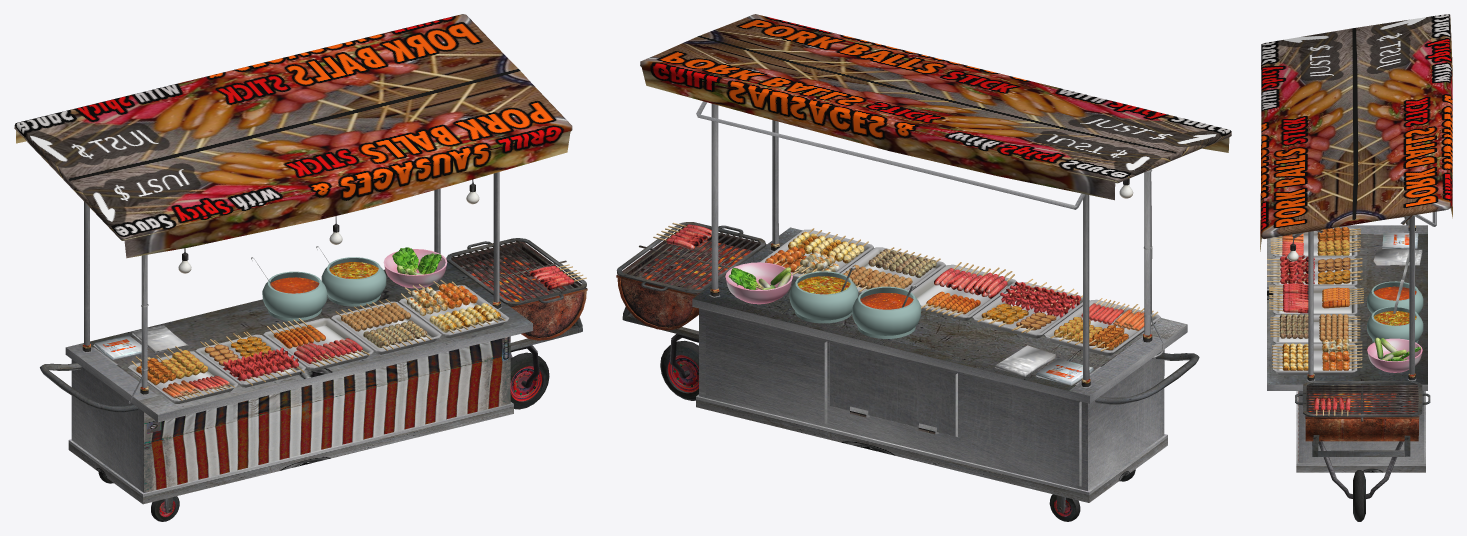
Rendered from Avika_Streetfood_Cart.fbx.
3 views of the same model, side by side, from view 1: azimuth 30°, elevation 25°; view 2: azimuth 150°, elevation 25°; view 3: azimuth 270°, elevation 25° (orthographic). The views are drawn at different scales.
Visible parts, largest first — view 1: cart, grill, cart_decor, blow_glass, tray01, tray04, tray02, tray03, tray05, light; view 2: cart, grill, cart_decor, blow_glass, tray04, tray03, tray05, tray01, tray02; view 3: cart, grill, cart_decor, tray01, tray03, tray04, tray02, tray05, blow_glass.
Part boxes in pixels (left/top/right/bottom): cart: left=14, top=14, right=572, bottom=504; grill: left=40, top=238, right=587, bottom=521; cart_decor: left=93, top=246, right=447, bottom=360; blow_glass: left=262, top=257, right=386, bottom=321; tray01: left=399, top=280, right=509, bottom=337; tray04: left=195, top=331, right=305, bottom=387; tray02: left=331, top=299, right=441, bottom=354; tray03: left=263, top=318, right=373, bottom=370; tray05: left=128, top=346, right=238, bottom=403; light: left=128, top=179, right=479, bottom=403; cart: left=640, top=14, right=1231, bottom=502; grill: left=616, top=222, right=1199, bottom=521; cart_decor: left=725, top=262, right=1094, bottom=385; blow_glass: left=789, top=271, right=921, bottom=338; tray04: left=972, top=279, right=1082, bottom=338; tray03: left=911, top=262, right=1016, bottom=320; tray05: left=1044, top=298, right=1160, bottom=355; tray01: left=760, top=228, right=873, bottom=279; tray02: left=840, top=247, right=945, bottom=295; cart: left=1260, top=14, right=1452, bottom=472; grill: left=1295, top=217, right=1430, bottom=521; cart_decor: left=1367, top=232, right=1422, bottom=372; tray01: left=1272, top=338, right=1362, bottom=374; tray03: left=1269, top=283, right=1364, bottom=314; tray04: left=1267, top=254, right=1362, bottom=285; tray02: left=1270, top=314, right=1360, bottom=343; tray05: left=1270, top=226, right=1360, bottom=257; blow_glass: left=1367, top=281, right=1423, bottom=342.
Size of the model in its own units: 154 by 105 by 58.19.
